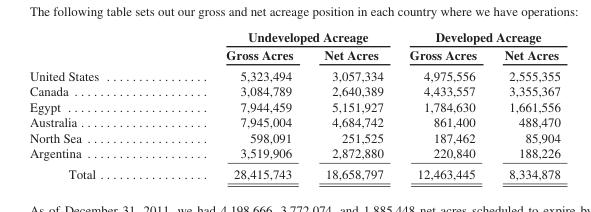table: (28, 29, 559, 180)
table column: (161, 29, 308, 180), (28, 29, 161, 180), (395, 29, 489, 180), (308, 29, 395, 180), (489, 29, 559, 180)
table column header: (28, 29, 559, 65)
table row: (28, 45, 559, 65), (28, 65, 559, 83), (28, 145, 559, 163), (28, 163, 559, 180), (28, 29, 559, 45), (28, 98, 559, 114), (28, 129, 559, 145), (28, 83, 559, 98), (28, 114, 559, 129)
table spanning cell: (161, 29, 395, 45), (395, 29, 559, 45)
